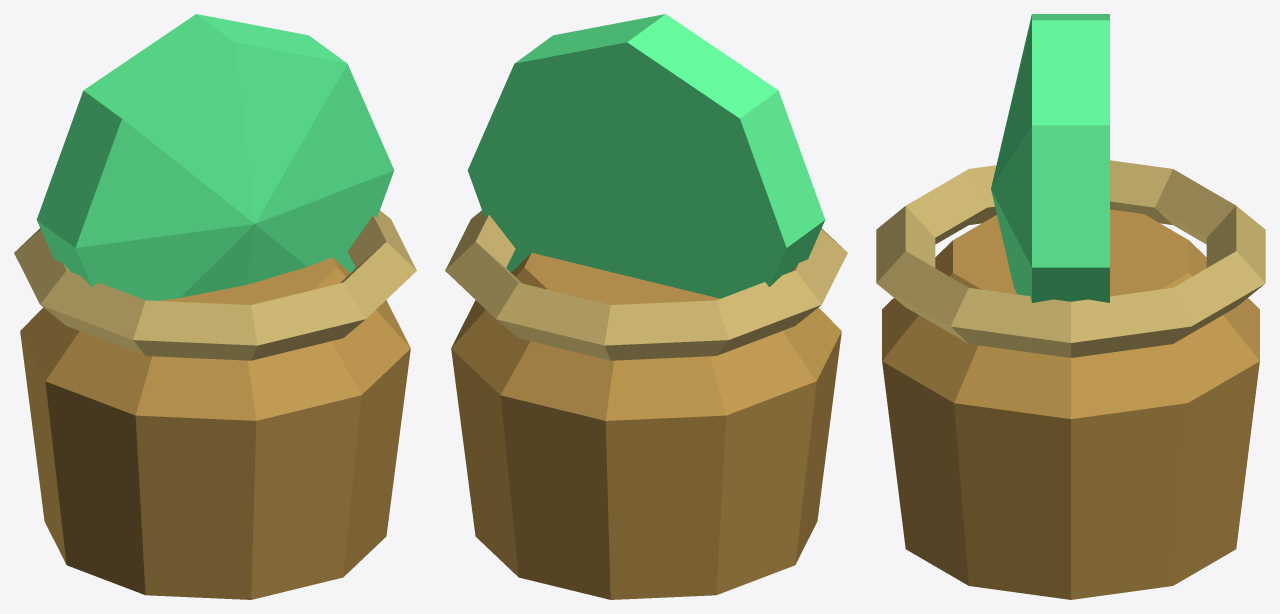
File: spirit_bead_seal.obj
The picture shows the model from 3 angles, left to right: view 1: azimuth 30°, elevation 25°; view 2: azimuth 150°, elevation 25°; view 3: azimuth 270°, elevation 25°; orthographic projection.
Parts seen in each view (by area): view 1: bead_socket, spirit_bead, bead_seal; view 2: bead_socket, spirit_bead, bead_seal; view 3: bead_socket, bead_seal, spirit_bead.
Boxes of the visible parts, bbox=[...] form: bead_socket: bbox=[20, 257, 410, 599]; spirit_bead: bbox=[36, 14, 394, 300]; bead_seal: bbox=[14, 210, 416, 360]; bead_socket: bbox=[451, 253, 841, 599]; spirit_bead: bbox=[467, 14, 825, 298]; bead_seal: bbox=[445, 210, 847, 360]; bead_socket: bbox=[882, 209, 1259, 599]; bead_seal: bbox=[876, 160, 1265, 357]; spirit_bead: bbox=[991, 14, 1109, 302].
Bounding box in the file's own units: 0.33 × 0.45 × 0.3138.
